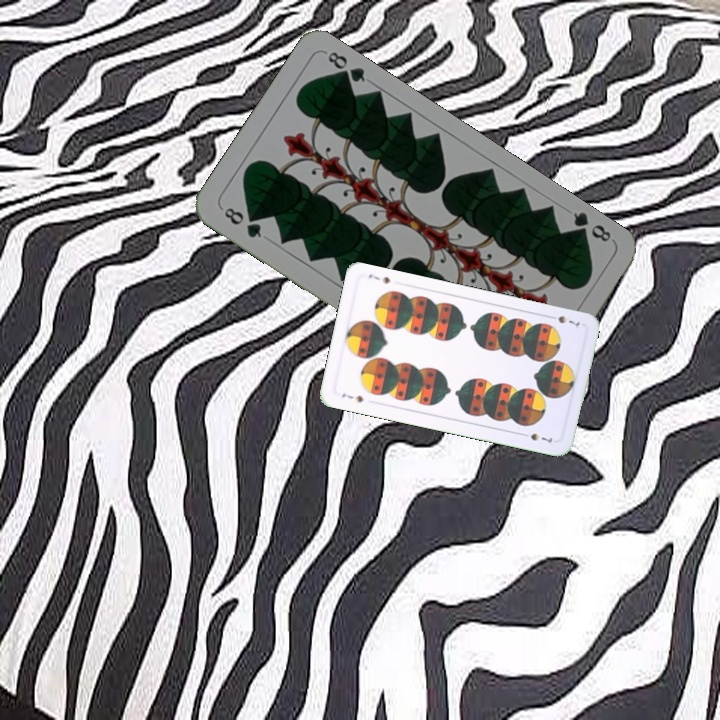G8: (567, 207, 616, 245), (220, 203, 265, 241)
S7: (544, 311, 584, 331), (338, 389, 366, 405)
